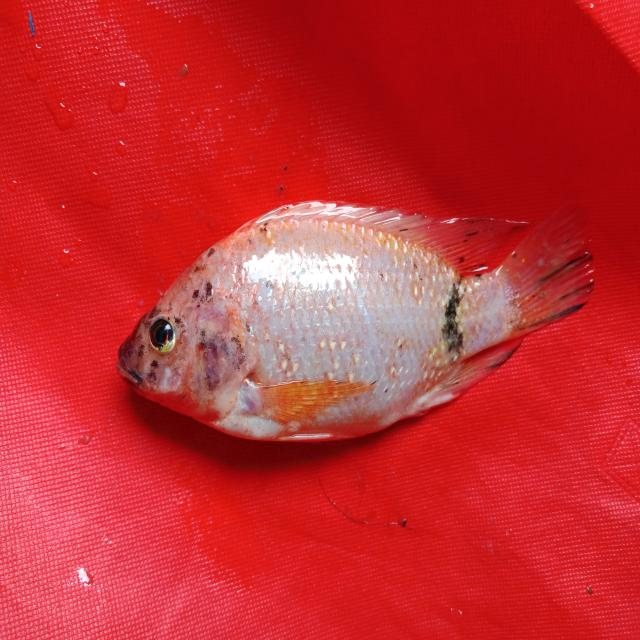ikan: (100, 156, 598, 464)
